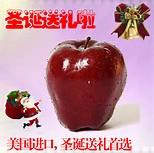apple: (95, 37, 154, 104)
